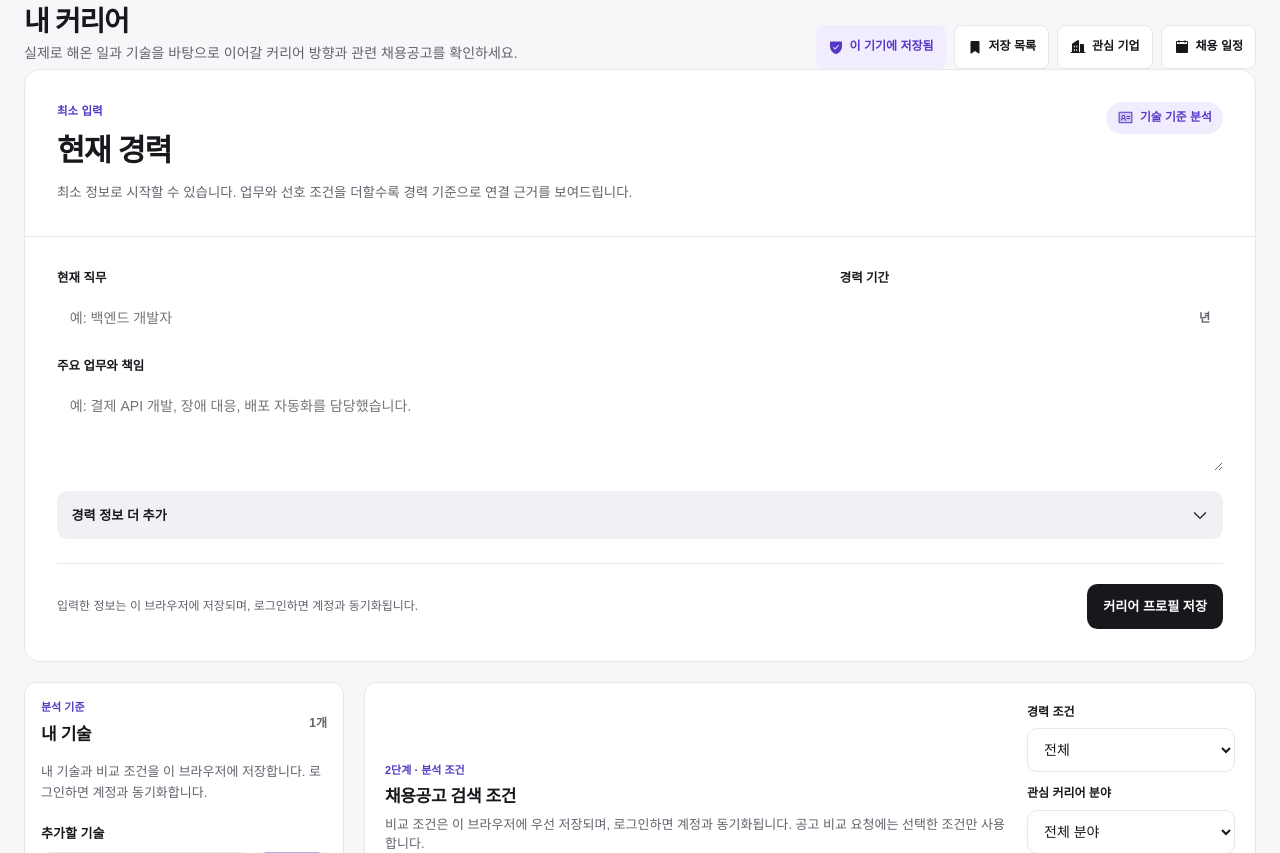
it: CareerOverview › does not replace a newer result when an aborted response finishes late
The width and height of the screenshot is (1280, 853).
Select "경력" in the dropdown labelled "경력 조건" at (1131, 750), box top-left (1027, 728), bottom-right (1235, 772)
(page scrolled)
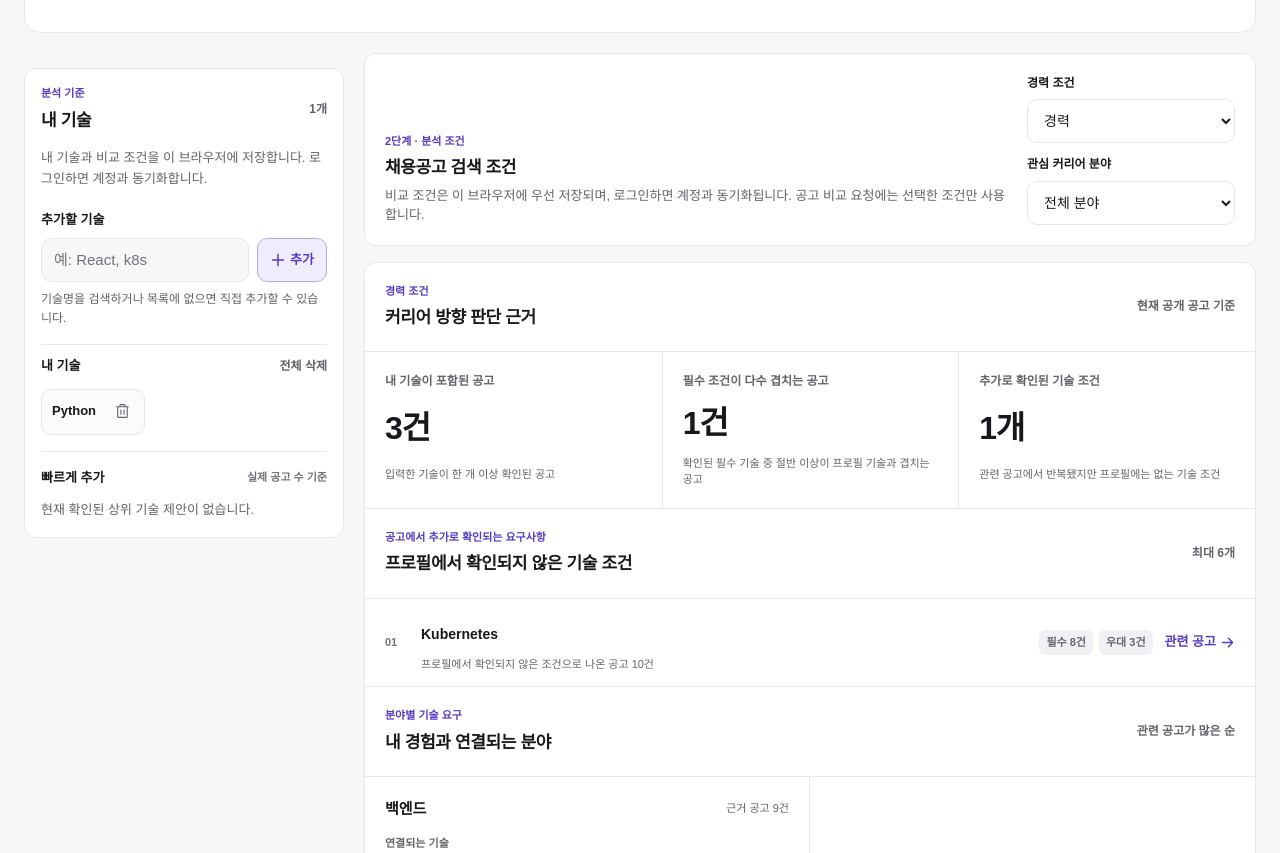
Check: the text "내 기술이 포함된 공고" shows "3건", box top-left (385, 410), bottom-right (430, 446)
